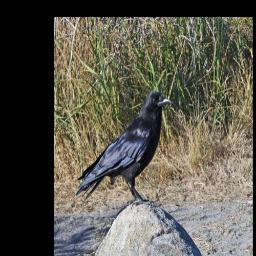Crow: (74, 87, 173, 211)
